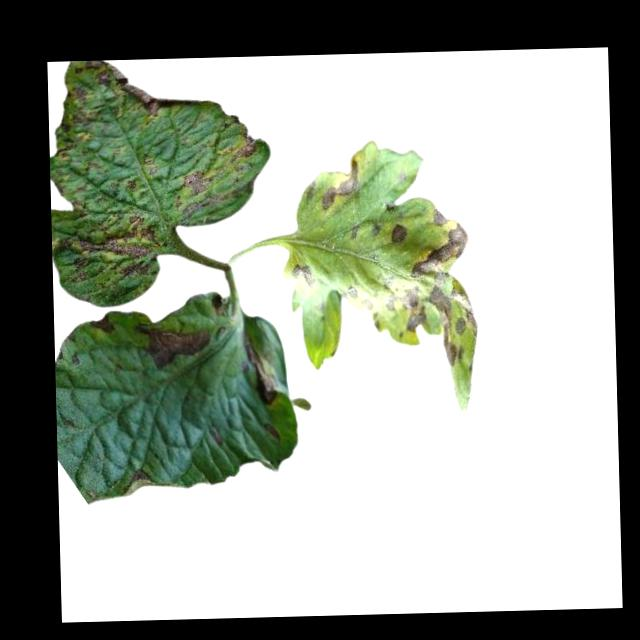Early_blight: (396, 222, 477, 370), (60, 213, 161, 283), (87, 59, 158, 123), (131, 322, 211, 370), (236, 334, 277, 409), (173, 170, 230, 220), (53, 85, 90, 159), (318, 158, 358, 210), (231, 128, 259, 160), (291, 263, 316, 290), (87, 315, 115, 337), (389, 222, 408, 245), (429, 207, 446, 229)
